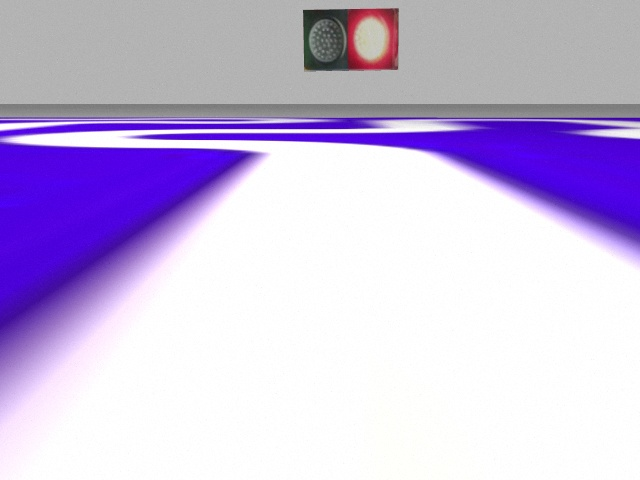red: (349, 9, 399, 69)
